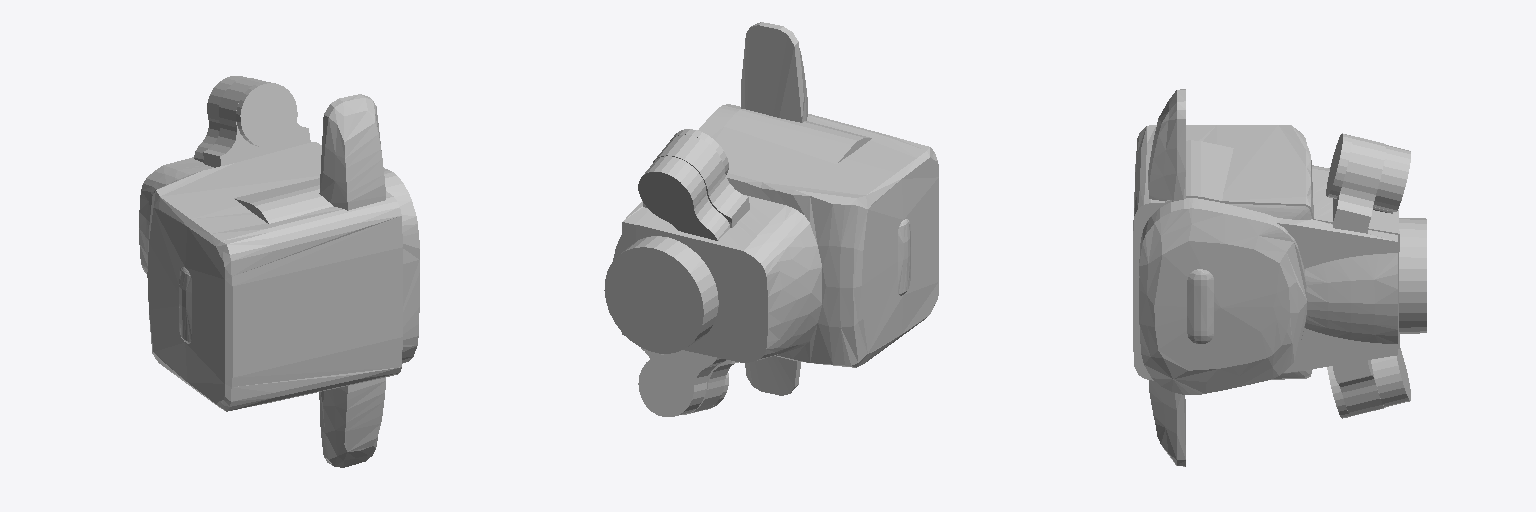
The picture shows the model from 3 angles: view 1: azimuth 30°, elevation 25°; view 2: azimuth 150°, elevation 25°; view 3: azimuth 270°, elevation 25°; orthographic projection.
Visible parts, largest first — view 1: Shape_IndexedFaceSet.004_Shape_IndexedFaceSet.025, Shape_IndexedFaceSet.006_Shape_IndexedFaceSet.027, Shape_IndexedFaceSet.003_Shape_IndexedFaceSet.024, Shape_IndexedFaceSet.008_Shape_IndexedFaceSet.029, Shape_IndexedFaceSet_Shape_IndexedFaceSet.021, Shape_IndexedFaceSet.007_Shape_IndexedFaceSet.028, Shape_IndexedFaceSet.002_Shape_IndexedFaceSet.023, Shape_IndexedFaceSet.010_Shape_IndexedFaceSet.031, Shape_IndexedFaceSet.016_Shape_IndexedFaceSet.037; view 2: Shape_IndexedFaceSet.003_Shape_IndexedFaceSet.024, Shape_IndexedFaceSet.004_Shape_IndexedFaceSet.025, Shape_IndexedFaceSet.013_Shape_IndexedFaceSet.034, Shape_IndexedFaceSet.006_Shape_IndexedFaceSet.027, Shape_IndexedFaceSet.010_Shape_IndexedFaceSet.031, Shape_IndexedFaceSet.011_Shape_IndexedFaceSet.032, Shape_IndexedFaceSet.007_Shape_IndexedFaceSet.028, Shape_IndexedFaceSet.002_Shape_IndexedFaceSet.023, Shape_IndexedFaceSet_Shape_IndexedFaceSet.021, Shape_IndexedFaceSet.016_Shape_IndexedFaceSet.037; view 3: Shape_IndexedFaceSet_Shape_IndexedFaceSet.021, Shape_IndexedFaceSet.004_Shape_IndexedFaceSet.025, Shape_IndexedFaceSet.006_Shape_IndexedFaceSet.027, Shape_IndexedFaceSet.007_Shape_IndexedFaceSet.028, Shape_IndexedFaceSet.013_Shape_IndexedFaceSet.034, Shape_IndexedFaceSet.002_Shape_IndexedFaceSet.023, Shape_IndexedFaceSet.014_Shape_IndexedFaceSet.035, Shape_IndexedFaceSet.010_Shape_IndexedFaceSet.031, Shape_IndexedFaceSet.003_Shape_IndexedFaceSet.024, Shape_IndexedFaceSet.011_Shape_IndexedFaceSet.032, Shape_IndexedFaceSet.008_Shape_IndexedFaceSet.029, Shape_IndexedFaceSet.001_Shape_IndexedFaceSet.022.
Boxes of the visible parts, <box> form: Shape_IndexedFaceSet.004_Shape_IndexedFaceSet.025: <box>148,142,402,411</box>; Shape_IndexedFaceSet.006_Shape_IndexedFaceSet.027: <box>319,94,385,467</box>; Shape_IndexedFaceSet.003_Shape_IndexedFaceSet.024: <box>139,157,224,399</box>; Shape_IndexedFaceSet.008_Shape_IndexedFaceSet.029: <box>236,82,297,147</box>; Shape_IndexedFaceSet_Shape_IndexedFaceSet.021: <box>384,168,419,363</box>; Shape_IndexedFaceSet.007_Shape_IndexedFaceSet.028: <box>203,78,310,167</box>; Shape_IndexedFaceSet.002_Shape_IndexedFaceSet.023: <box>234,178,332,223</box>; Shape_IndexedFaceSet.010_Shape_IndexedFaceSet.031: <box>194,76,246,162</box>; Shape_IndexedFaceSet.016_Shape_IndexedFaceSet.037: <box>179,267,191,343</box>; Shape_IndexedFaceSet.003_Shape_IndexedFaceSet.024: <box>636,161,938,362</box>; Shape_IndexedFaceSet.004_Shape_IndexedFaceSet.025: <box>711,114,938,367</box>; Shape_IndexedFaceSet.013_Shape_IndexedFaceSet.034: <box>604,236,718,353</box>; Shape_IndexedFaceSet.006_Shape_IndexedFaceSet.027: <box>741,22,807,395</box>; Shape_IndexedFaceSet.010_Shape_IndexedFaceSet.031: <box>638,156,729,240</box>; Shape_IndexedFaceSet.011_Shape_IndexedFaceSet.032: <box>638,350,725,416</box>; Shape_IndexedFaceSet.007_Shape_IndexedFaceSet.028: <box>641,135,749,414</box>; Shape_IndexedFaceSet.002_Shape_IndexedFaceSet.023: <box>724,109,871,163</box>; Shape_IndexedFaceSet_Shape_IndexedFaceSet.021: <box>613,104,740,335</box>; Shape_IndexedFaceSet.016_Shape_IndexedFaceSet.037: <box>898,219,910,295</box>; Shape_IndexedFaceSet_Shape_IndexedFaceSet.021: <box>1139,198,1397,394</box>; Shape_IndexedFaceSet.004_Shape_IndexedFaceSet.025: <box>1133,125,1313,380</box>; Shape_IndexedFaceSet.006_Shape_IndexedFaceSet.027: <box>1148,89,1185,466</box>; Shape_IndexedFaceSet.007_Shape_IndexedFaceSet.028: <box>1333,136,1385,415</box>; Shape_IndexedFaceSet.013_Shape_IndexedFaceSet.034: <box>1399,218,1426,333</box>; Shape_IndexedFaceSet.002_Shape_IndexedFaceSet.023: <box>1159,140,1233,206</box>; Shape_IndexedFaceSet.014_Shape_IndexedFaceSet.035: <box>1187,269,1213,343</box>; Shape_IndexedFaceSet.010_Shape_IndexedFaceSet.031: <box>1373,145,1410,213</box>; Shape_IndexedFaceSet.003_Shape_IndexedFaceSet.024: <box>1312,165,1399,348</box>; Shape_IndexedFaceSet.011_Shape_IndexedFaceSet.032: <box>1371,348,1410,406</box>; Shape_IndexedFaceSet.008_Shape_IndexedFaceSet.029: <box>1326,133,1351,198</box>; Shape_IndexedFaceSet.001_Shape_IndexedFaceSet.022: <box>1229,204,1311,378</box>.
Size of the model in its own units: 0.2717 by 0.4444 by 0.3243.